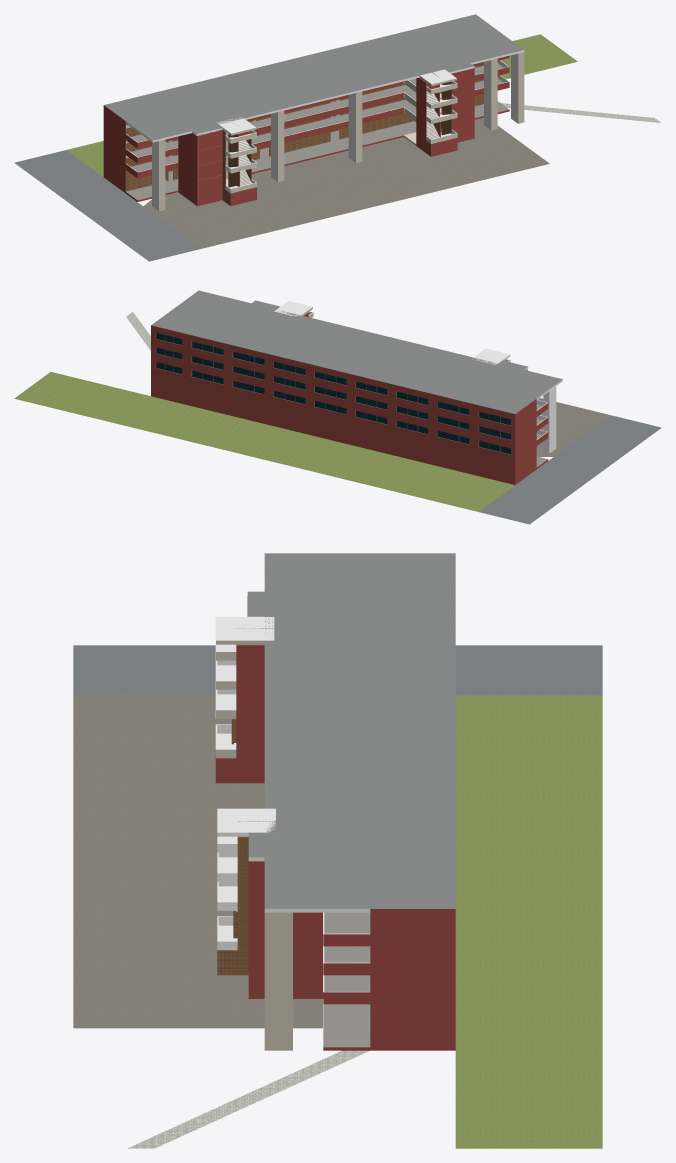
Rendered from version-2-1.glb.
The picture shows the model from 3 angles, top to bottom: view 1: azimuth 30°, elevation 25°; view 2: azimuth 150°, elevation 25°; view 3: azimuth 270°, elevation 25°; orthographic projection. The views are drawn at different scales.
Size of the model in its own units: 126 by 16.55 by 56.
Materials: 31 (20 with a texture image).
